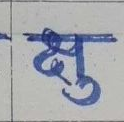u_matra: (61, 78, 102, 108)
